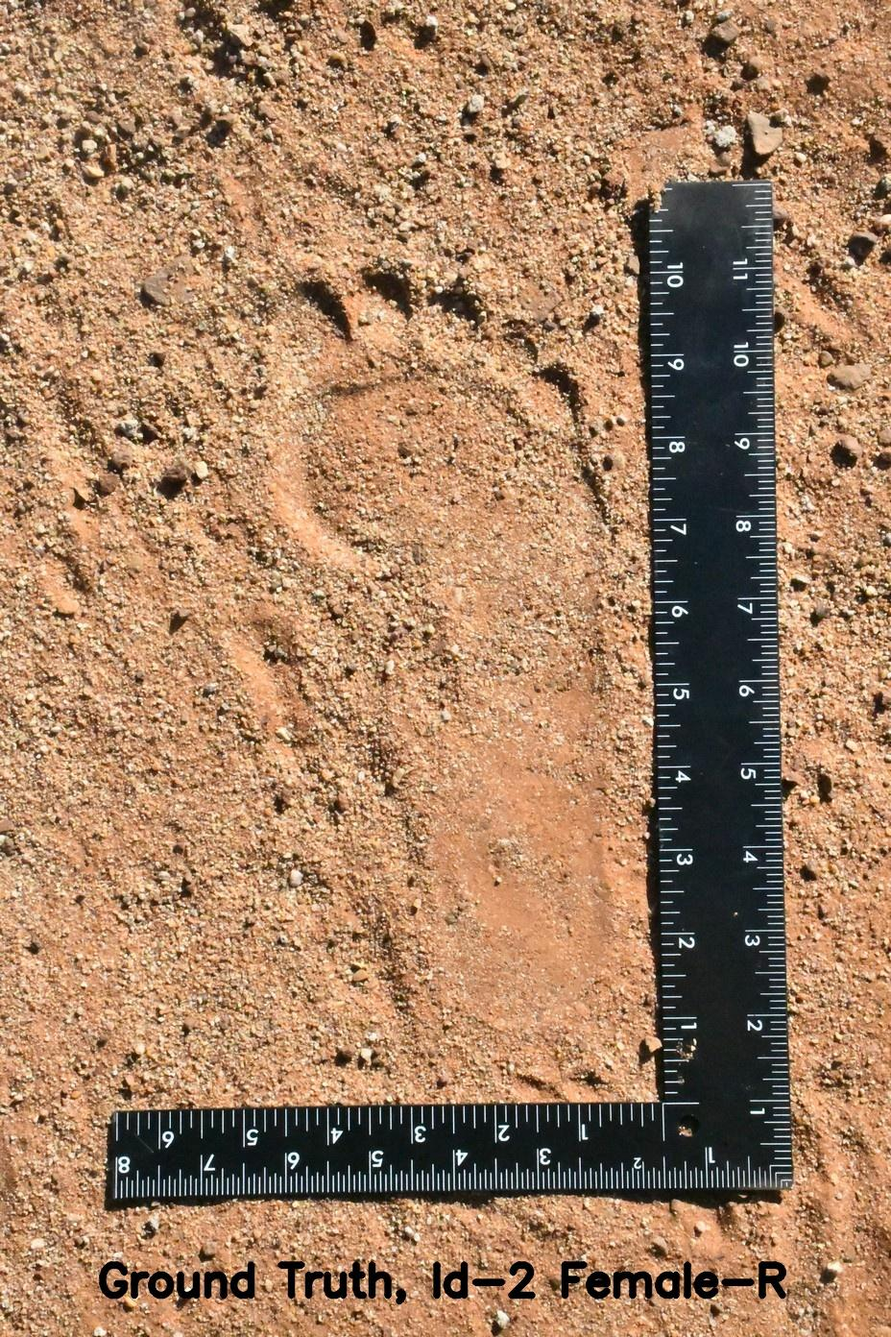human_foot_print: (189, 202, 644, 1095)
